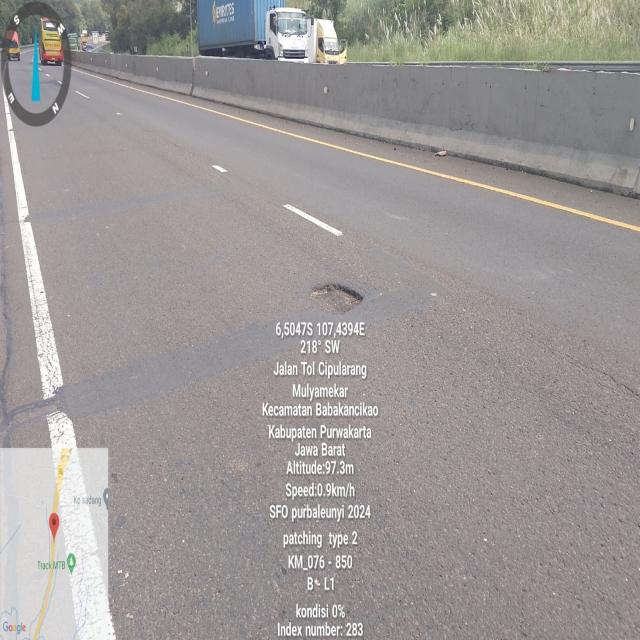Buraco: (306, 281, 367, 316)
